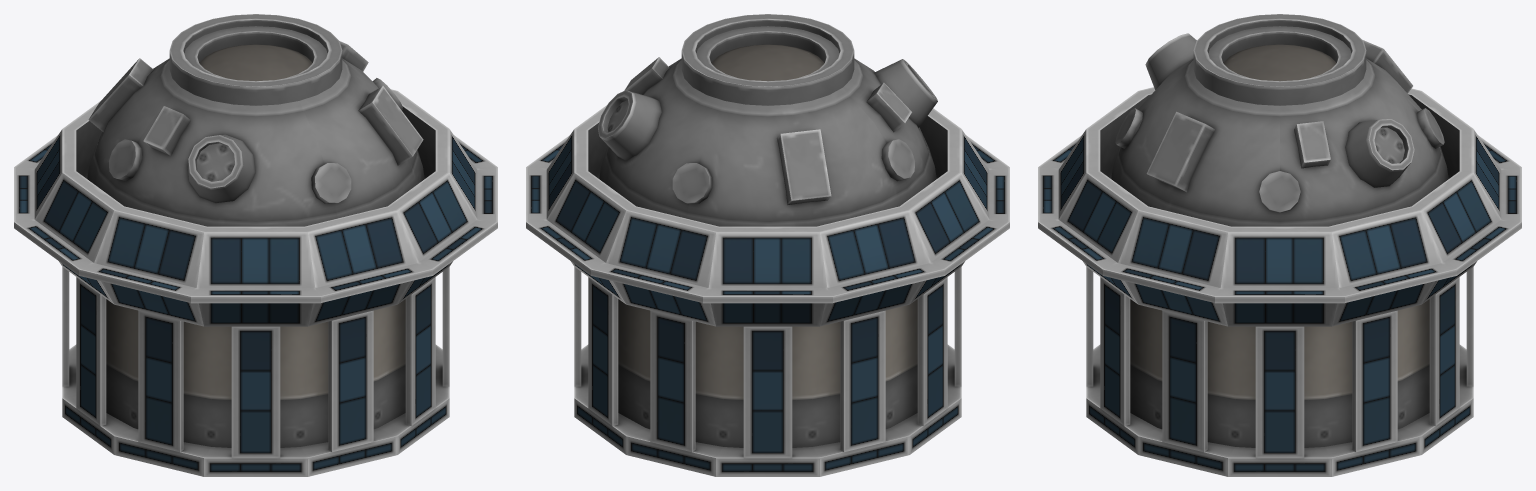
The model's file is core_bus.obj.
3 views of the same model, side by side, from view 1: azimuth 30°, elevation 25°; view 2: azimuth 150°, elevation 25°; view 3: azimuth 270°, elevation 25° (orthographic).
Visible parts, largest first — view 1: luna_solar, luna, lense; view 2: luna_solar, luna, lense; view 3: luna_solar, luna, lense.
Part boxes in pixels (x1=…): luna_solar: x1=14, y1=89, x2=497, y2=476; luna: x1=87, y1=14, x2=424, y2=447; lense: x1=199, y1=44, x2=312, y2=81; luna_solar: x1=526, y1=105, x2=1009, y2=476; luna: x1=598, y1=14, x2=937, y2=447; lense: x1=711, y1=44, x2=824, y2=81; luna_solar: x1=1038, y1=87, x2=1521, y2=476; luna: x1=1111, y1=14, x2=1448, y2=447; lense: x1=1223, y1=44, x2=1336, y2=81.
Bounding box in the file's own units: 0.875 × 0.6875 × 0.875.
